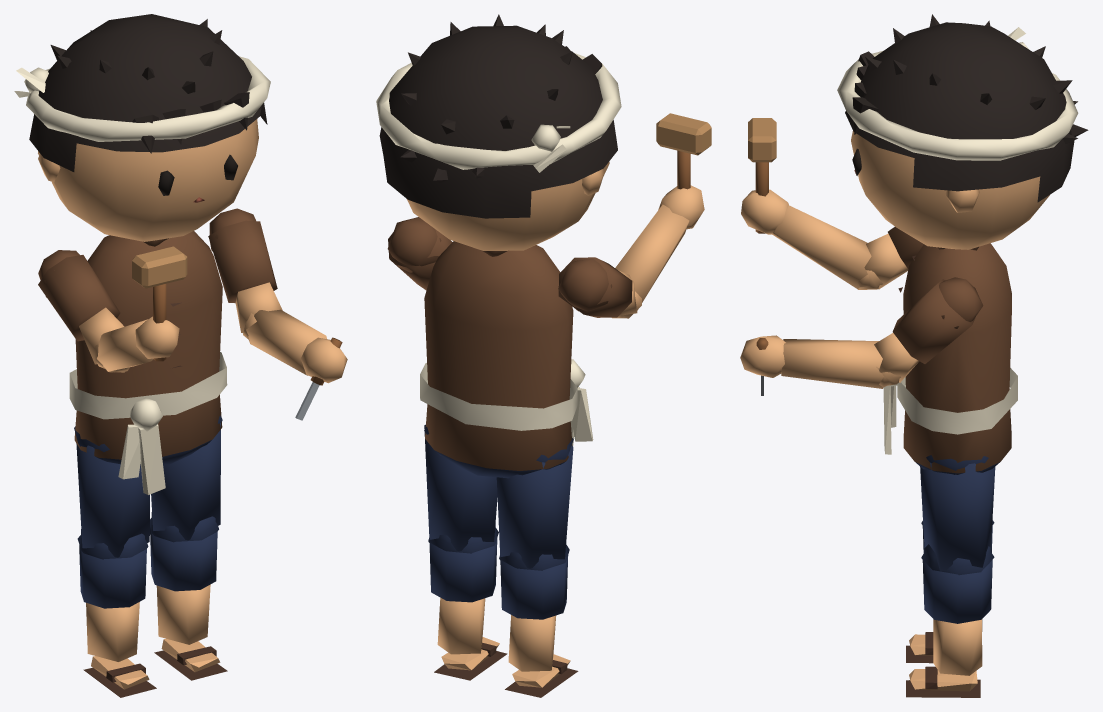
Rendered from north_wood_carver.glb.
The picture shows the model from 3 angles, left to right: view 1: azimuth 30°, elevation 25°; view 2: azimuth 150°, elevation 25°; view 3: azimuth 270°, elevation 25°; orthographic projection.
Parts seen in each view (by area): view 1: head, body, shin_L, shin_R, leg_R, arm_L, leg_L, arm_R, forearm_L, forearm_R, prop_mallet; view 2: head, body, shin_L, shin_R, leg_R, leg_L, forearm_R, arm_R, arm_L, prop_mallet; view 3: head, body, shin_L, leg_L, arm_L, forearm_L, forearm_R, arm_R, prop_mallet, shin_R.
Boxes of the visible parts, <box> form: head: <box>14,14,270,241</box>; body: <box>69,231,227,494</box>; shin_L: <box>150,512,227,680</box>; shin_R: <box>79,529,156,697</box>; leg_R: <box>74,426,149,559</box>; arm_L: <box>208,208,282,339</box>; leg_L: <box>150,415,222,542</box>; arm_R: <box>38,250,129,372</box>; forearm_L: <box>244,309,347,383</box>; forearm_R: <box>95,316,179,372</box>; prop_mallet: <box>132,246,187,361</box>; head: <box>376,14,621,250</box>; body: <box>420,241,593,478</box>; shin_L: <box>429,524,507,680</box>; shin_R: <box>500,544,578,697</box>; leg_R: <box>496,437,573,570</box>; leg_L: <box>424,424,498,553</box>; forearm_R: <box>615,185,704,317</box>; arm_R: <box>558,257,641,318</box>; arm_L: <box>387,217,452,290</box>; prop_mallet: <box>656,113,711,189</box>; head: <box>837,14,1088,249</box>; body: <box>883,243,1017,474</box>; shin_L: <box>906,544,992,697</box>; leg_L: <box>920,455,995,575</box>; arm_L: <box>874,277,983,385</box>; forearm_L: <box>740,335,900,388</box>; forearm_R: <box>741,189,882,289</box>; arm_R: <box>858,227,923,289</box>; prop_mallet: <box>748,118,776,233</box>; shin_R: <box>906,525,992,663</box>.
Bounding box in the file's own units: 0.5316 × 1.47 × 0.728.
